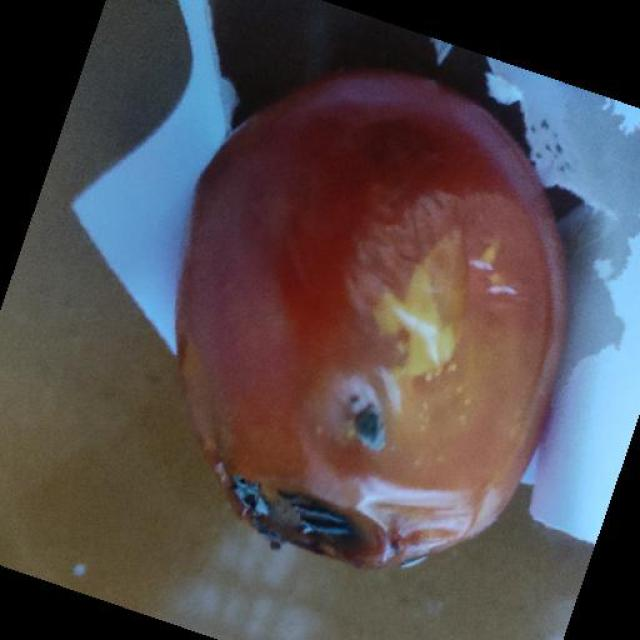Stale_tomato: (186, 100, 552, 546)
